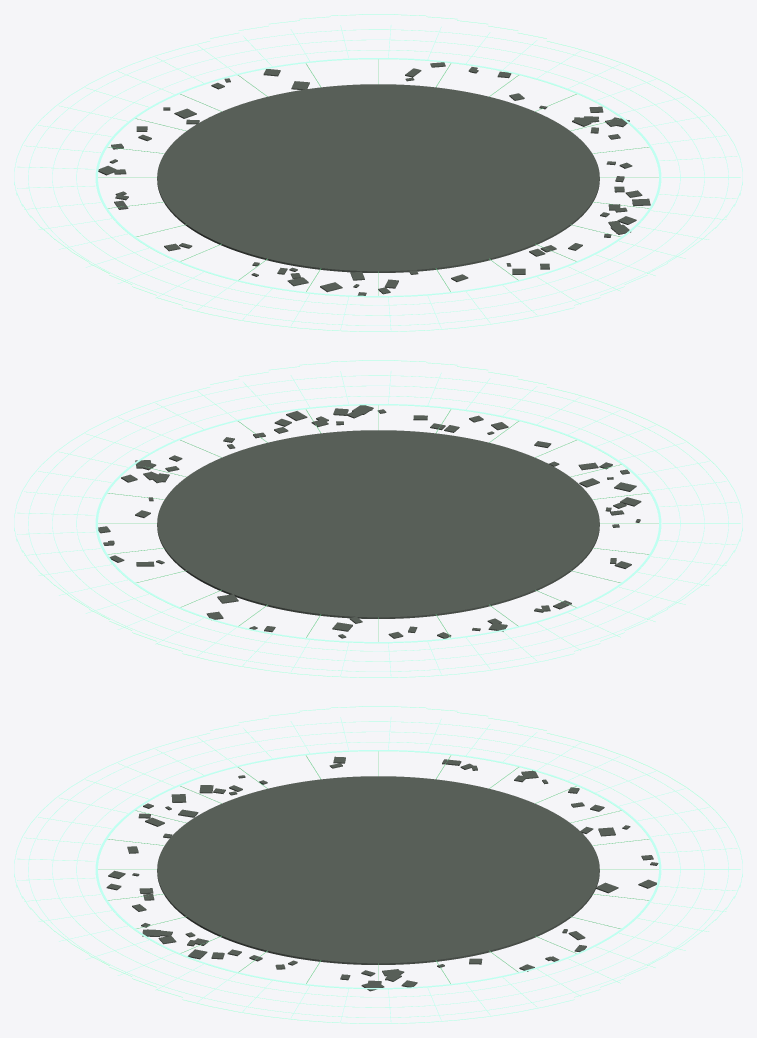
File: world.glb
3 renders of one model, top to bottom at view 1: azimuth 30°, elevation 25°; view 2: azimuth 150°, elevation 25°; view 3: azimuth 270°, elevation 25°, orthographic.
Visible parts, largest first — view 1: world-000, world-095, world-143, world-142, world-141; view 2: world-000, world-095, world-143, world-142, world-141; view 3: world-000, world-095, world-143, world-142, world-141.
Part boxes in pixels (box(x1,y1,x2,y2)): world-000: box(157, 84, 599, 272); world-095: box(95, 58, 661, 297); world-143: box(28, 29, 728, 325); world-142: box(52, 39, 704, 315); world-141: box(76, 50, 680, 305); world-000: box(157, 430, 599, 618); world-095: box(95, 404, 661, 643); world-143: box(28, 375, 728, 671); world-142: box(52, 385, 704, 661); world-141: box(76, 396, 680, 651); world-000: box(157, 776, 599, 964); world-095: box(95, 750, 661, 989); world-143: box(28, 721, 728, 1017); world-142: box(52, 731, 704, 1007); world-141: box(76, 742, 680, 997).
Size of the model in its own units: 181 by 3.15 by 181.
